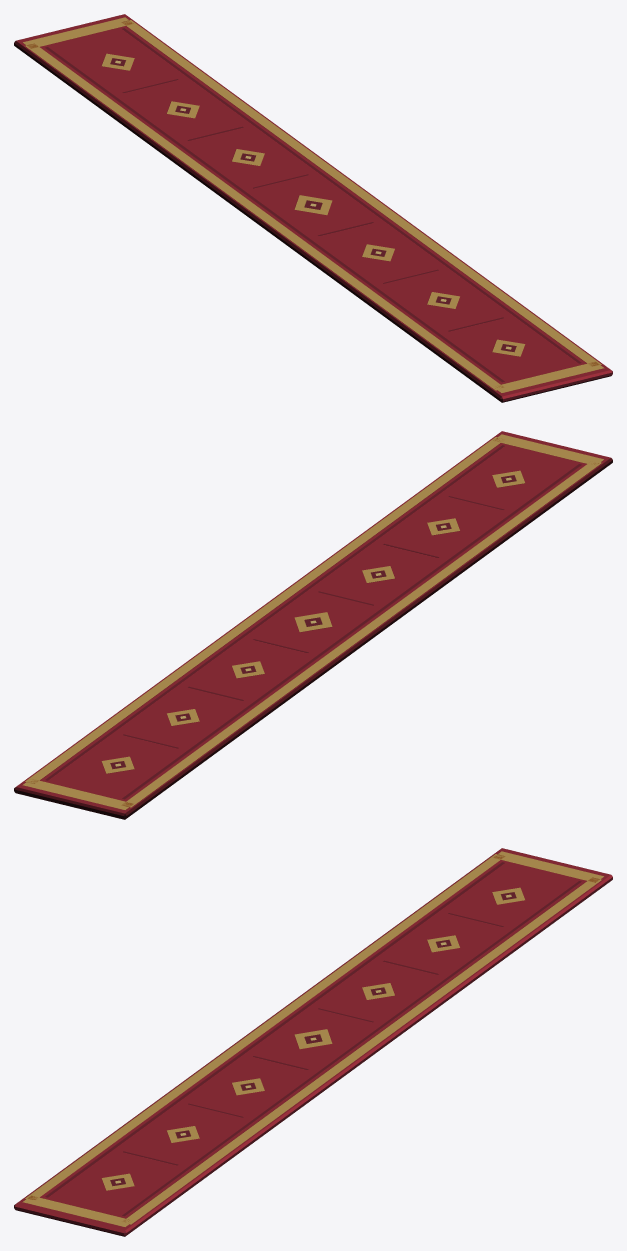
Rendered from 0-20261016-1900-ev002-r01-lobby-redcarpet_baked.glb.
The picture shows the model from 3 angles, top to bottom: view 1: azimuth 30°, elevation 25°; view 2: azimuth 150°, elevation 25°; view 3: azimuth 330°, elevation 25°; orthographic projection.
Parts seen in each view (by area): view 1: SW_Lobby_RedCarpet; view 2: SW_Lobby_RedCarpet; view 3: SW_Lobby_RedCarpet.
Part boxes in pixels (left/top/right/bottom): SW_Lobby_RedCarpet: left=14, top=14, right=612, bottom=402; SW_Lobby_RedCarpet: left=14, top=431, right=612, bottom=819; SW_Lobby_RedCarpet: left=14, top=848, right=612, bottom=1236.
Size of the model in its own units: 1.6 by 0.0885 by 12.
Materials: 1 (1 with a texture image).
